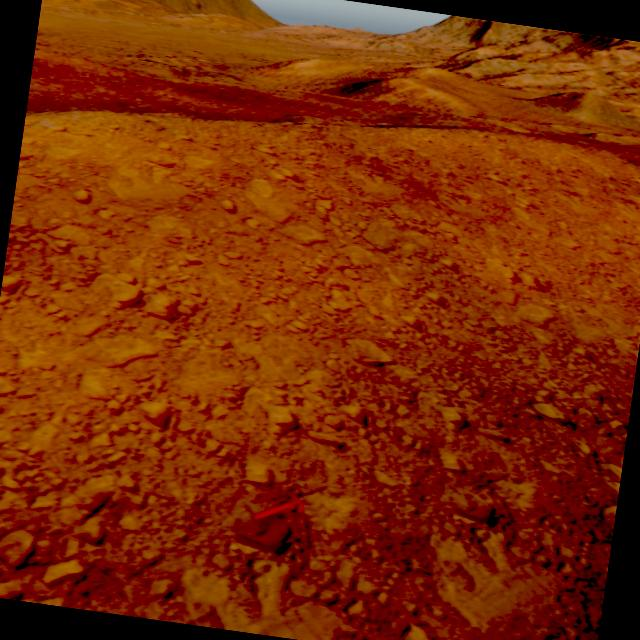newhammer: (252, 489, 305, 528)
